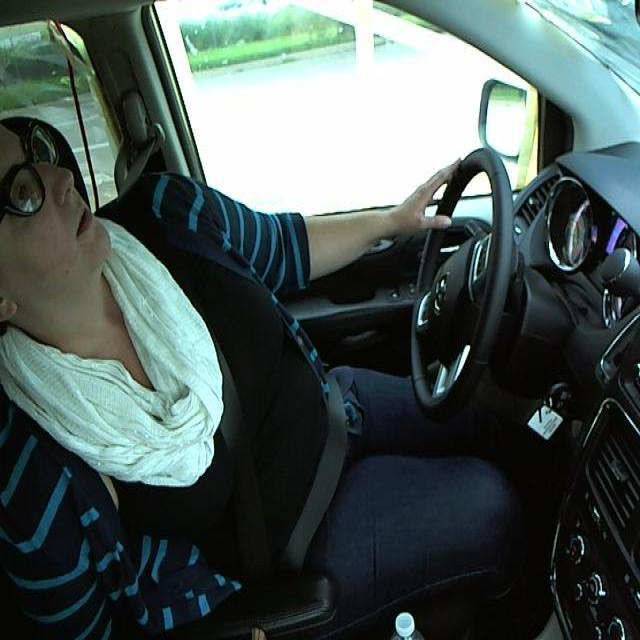seatbelt: (155, 238, 353, 562)
